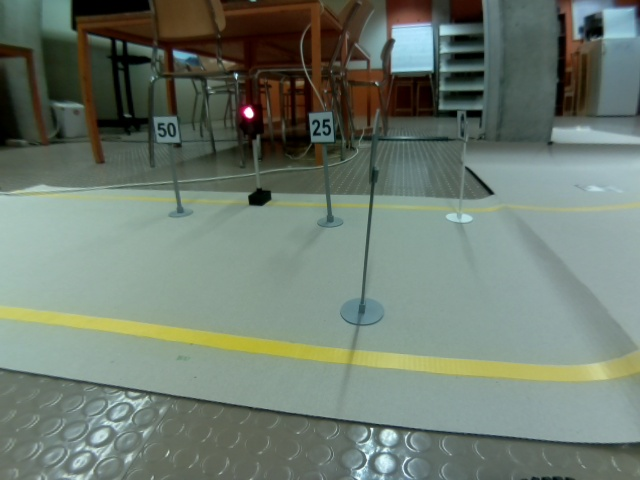battery: (454, 108, 469, 143)
speed25: (307, 110, 336, 145)
speed50: (152, 114, 183, 146)
traffic light: (237, 103, 266, 138)
